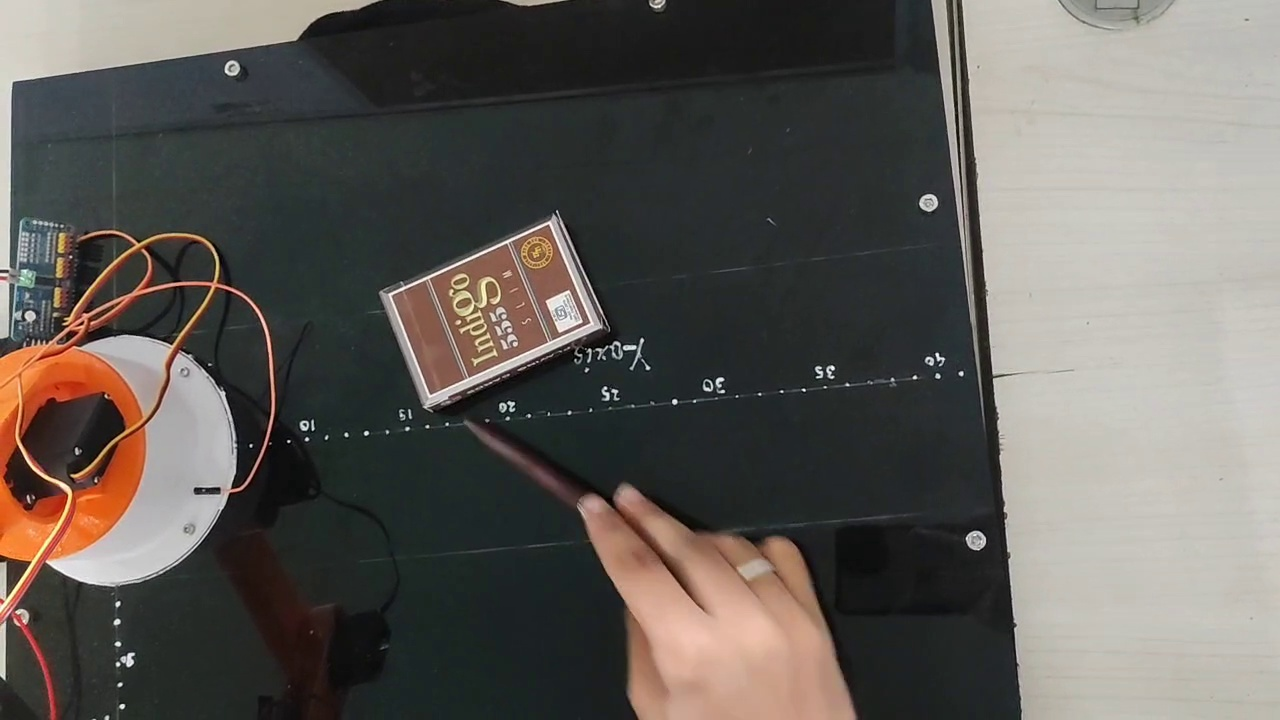BEX: (386, 215, 598, 396)
